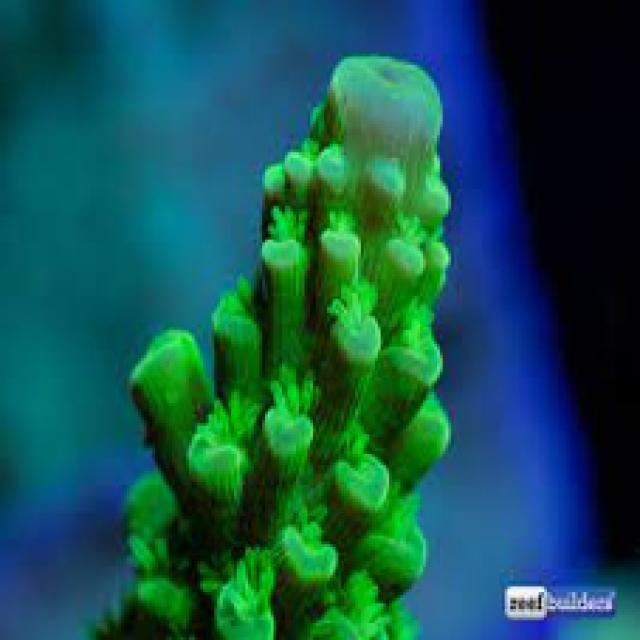Healthy: (97, 55, 449, 638)
